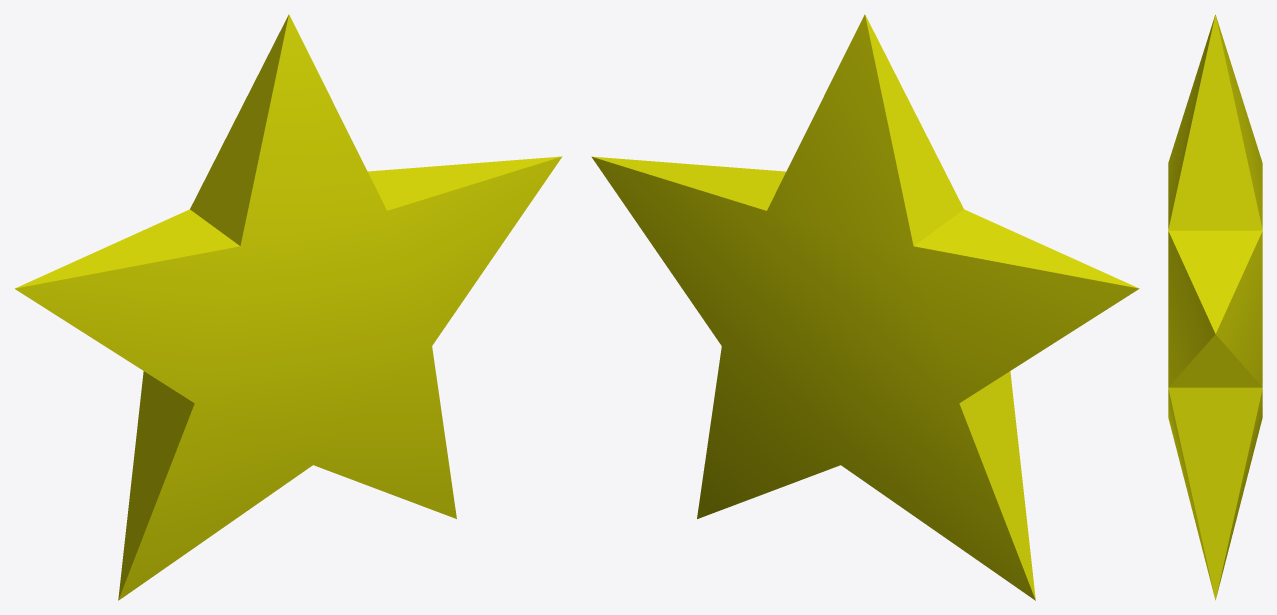
The model's file is 057 Star.fbx.
3 renders of one model, left to right at view 1: azimuth 30°, elevation 25°; view 2: azimuth 150°, elevation 25°; view 3: azimuth 270°, elevation 25°, orthographic. The views are drawn at different scales.
Visible parts, largest first — view 1: Lowpoly_Christmas_Pack_057:pCylinder1; view 2: Lowpoly_Christmas_Pack_057:pCylinder1; view 3: Lowpoly_Christmas_Pack_057:pCylinder1.
Part boxes in pixels (x1,y1,x2,y2): Lowpoly_Christmas_Pack_057:pCylinder1: (15, 14, 562, 600); Lowpoly_Christmas_Pack_057:pCylinder1: (591, 14, 1139, 600); Lowpoly_Christmas_Pack_057:pCylinder1: (1168, 14, 1262, 600).
Bounding box in the file's own units: 2.39 × 2.28 × 0.3824.
